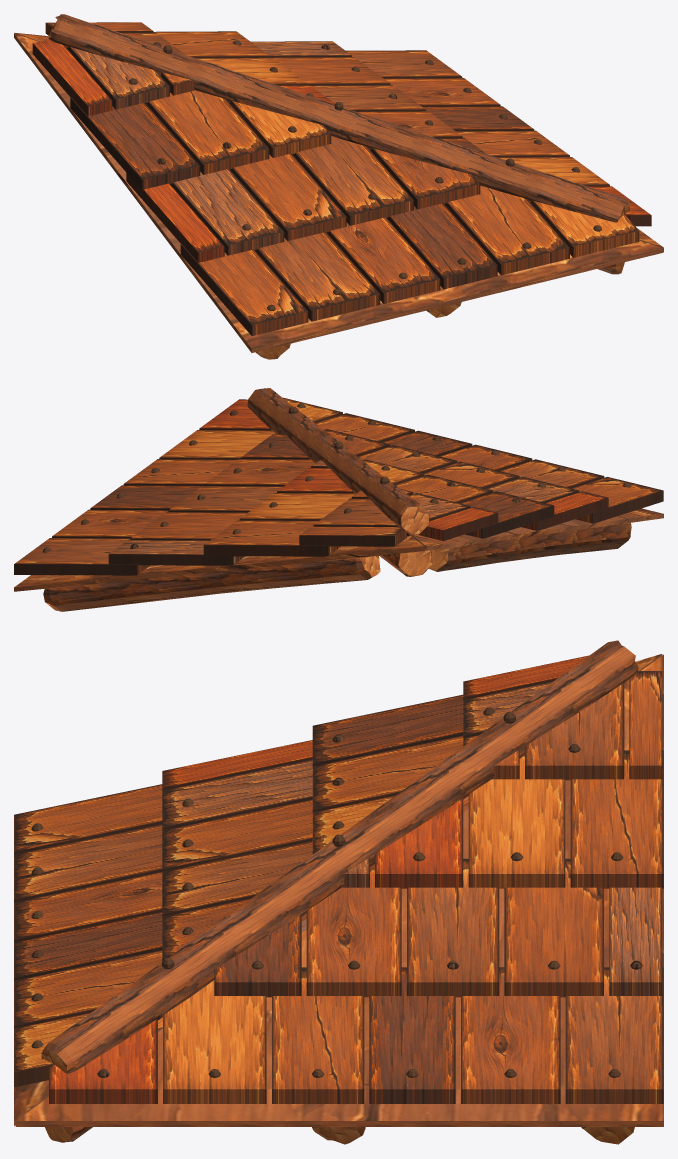
Rendered from roof_26_outer__plank_root.glb.
3 renders of one model, top to bottom at view 1: azimuth 30°, elevation 25°; view 2: azimuth 150°, elevation 25°; view 3: azimuth 270°, elevation 25°, orthographic. The views are drawn at different scales.
Visible parts, largest first — view 1: model; view 2: model; view 3: model.
Part boxes in pixels (x1,y1,x2,y2): model: (14, 14, 663, 359); model: (14, 388, 663, 611); model: (14, 640, 663, 1144).
Size of the model in its own units: 1.99 by 0.8893 by 1.99.
Materials: 23 (23 with a texture image).
